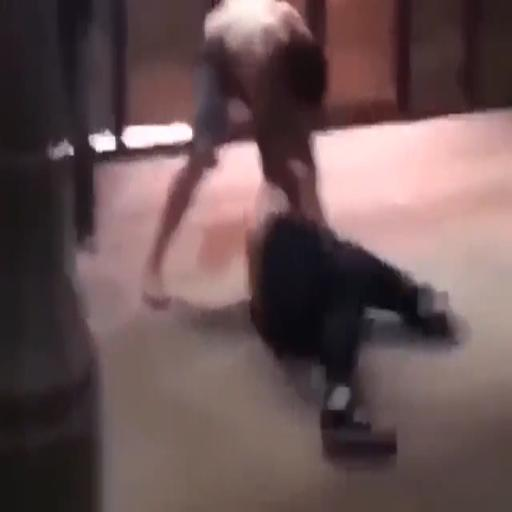violencia: (136, 2, 468, 465)
